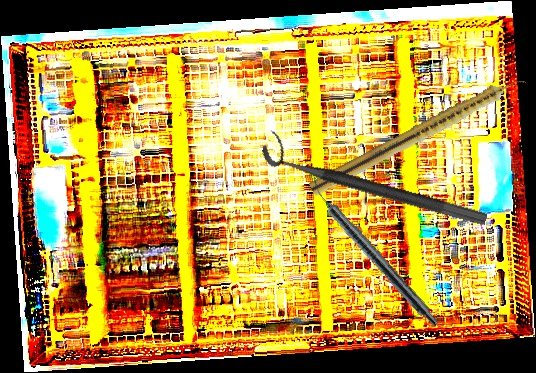Fixation Ring: (258, 129, 494, 228)
Handpiece: (308, 70, 529, 201), (302, 175, 445, 330)
